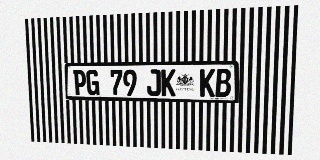7: (109, 70, 123, 96)
9: (123, 69, 137, 96)
B: (215, 69, 231, 97)
G: (86, 70, 100, 95)
J: (147, 69, 161, 96)
K: (200, 69, 215, 97), (161, 69, 176, 96)
P: (73, 70, 86, 95)
